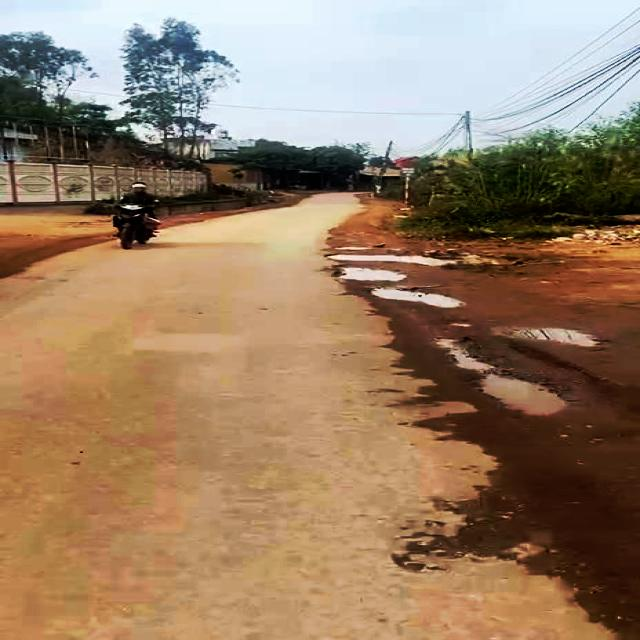pothole: (403, 478, 567, 578), (436, 329, 572, 419), (323, 248, 418, 288), (370, 285, 469, 312)
